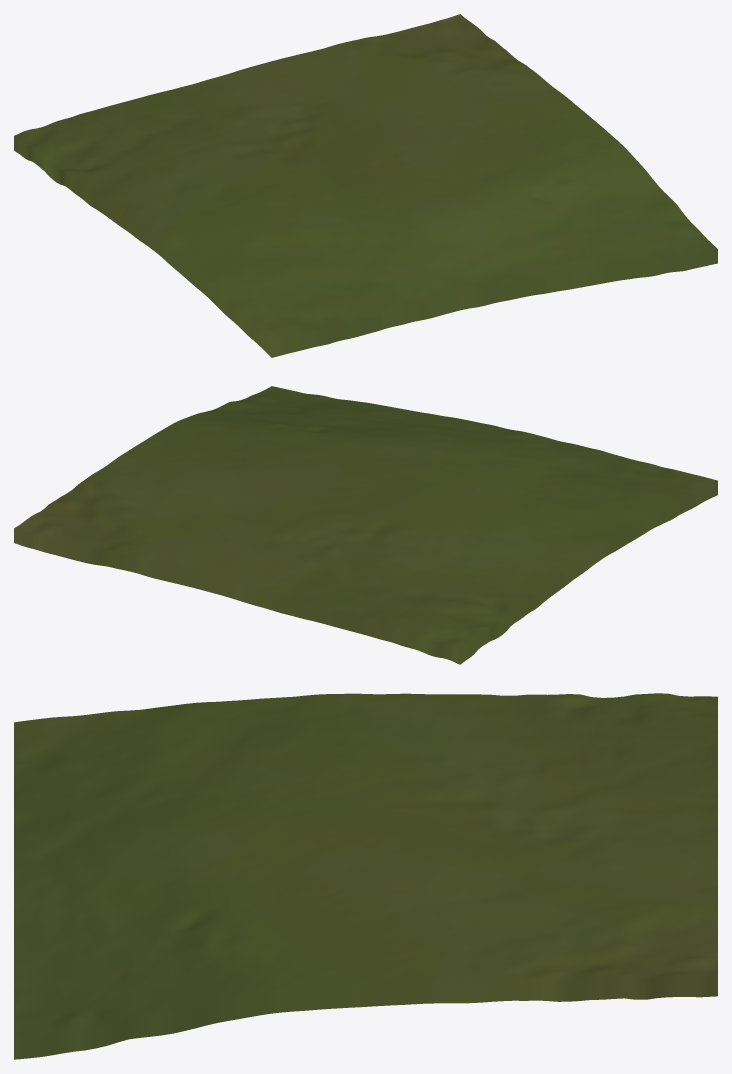
Rendered from terrain_0_-4.glb.
3 views of the same model, one above another, from view 1: azimuth 30°, elevation 25°; view 2: azimuth 150°, elevation 25°; view 3: azimuth 270°, elevation 25° (orthographic). The views are drawn at different scales.
Parts seen in each view (by area): view 1: terrain_0_-4; view 2: terrain_0_-4; view 3: terrain_0_-4.
Part boxes in pixels (bbox=[...]): terrain_0_-4: bbox=[14, 14, 717, 357]; terrain_0_-4: bbox=[14, 386, 717, 664]; terrain_0_-4: bbox=[14, 693, 717, 1059].
Bounding box in the file's own units: 256 × 33.38 × 256.
